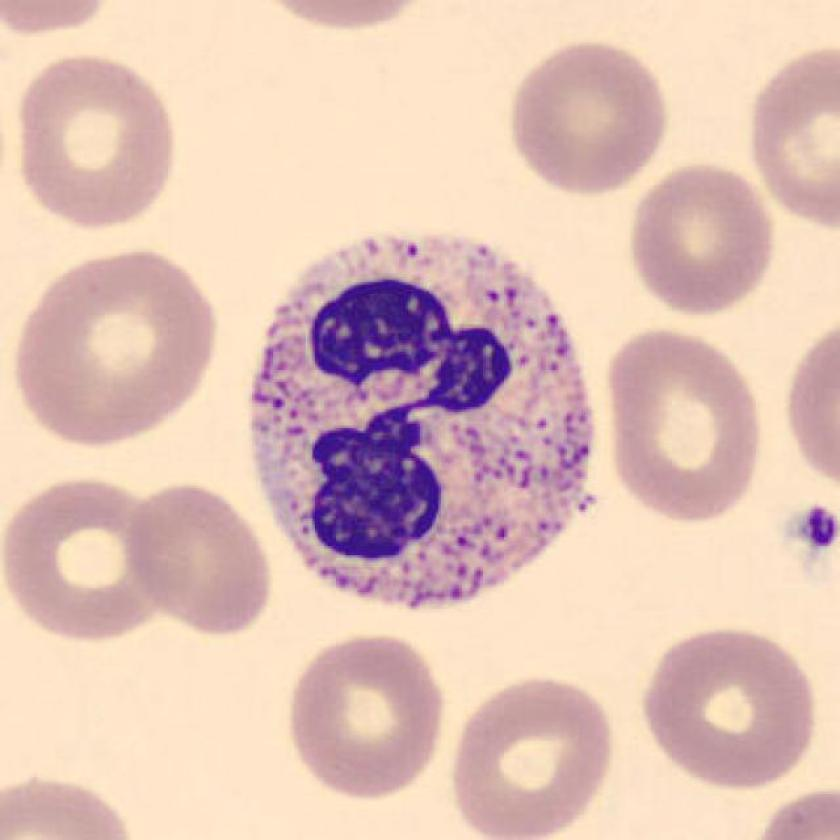neutrophil: (252, 231, 601, 609)
